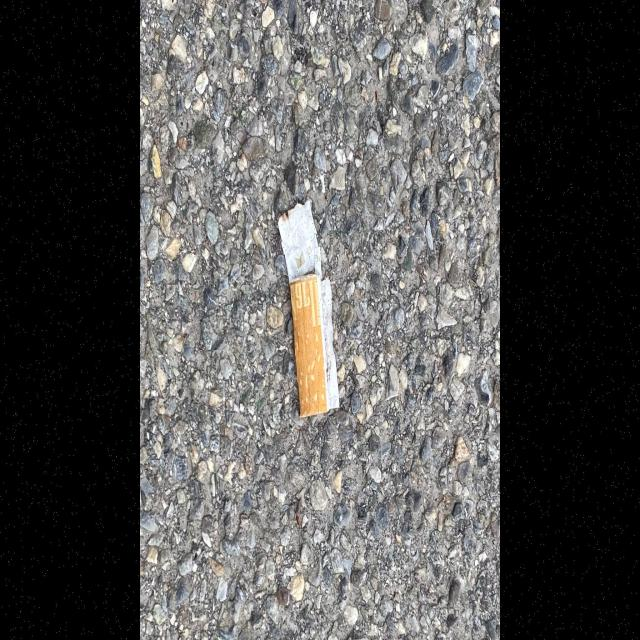other waste: (276, 197, 341, 419)
